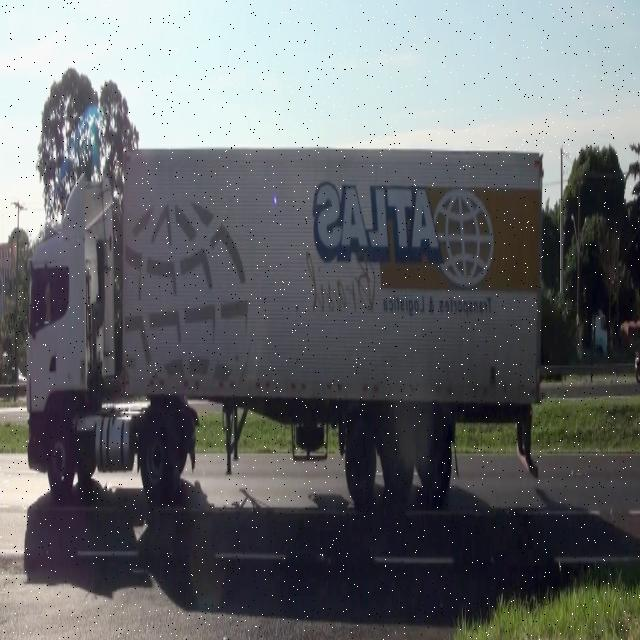-axle: (342, 416, 378, 500), (384, 413, 417, 501), (138, 414, 172, 492), (420, 415, 452, 497), (46, 422, 74, 501)
